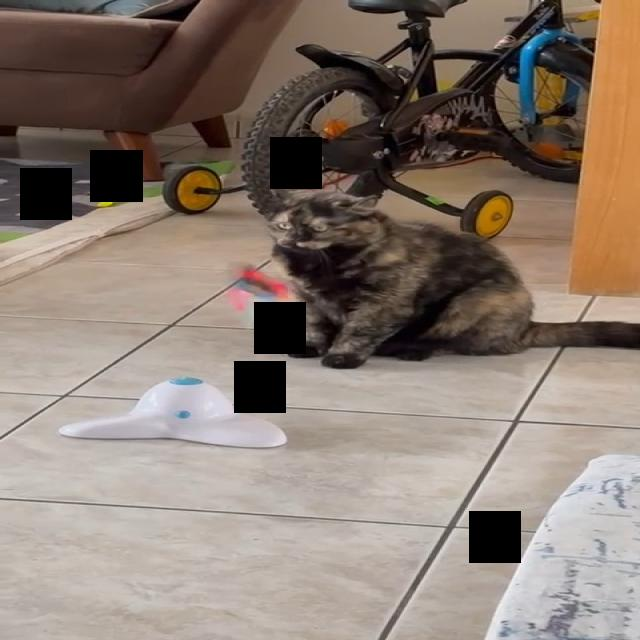authorized: (260, 181, 639, 369)
